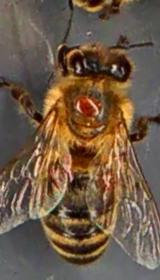varroa_mite: (70, 88, 107, 120)
